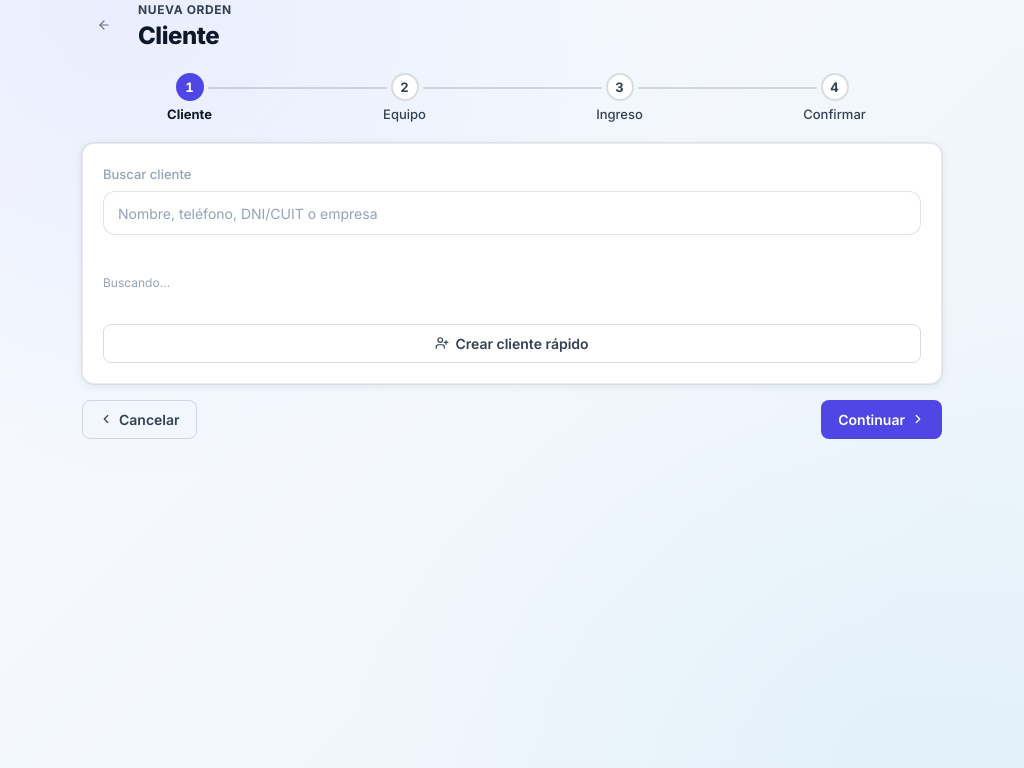
alta rápida · el error de mayorista se muestra UNA sola vez › la alerta de resumen queda libre para errores del servidor
Click the button "Crear cliente rápido" at (512, 343), box [103,324,921,363]
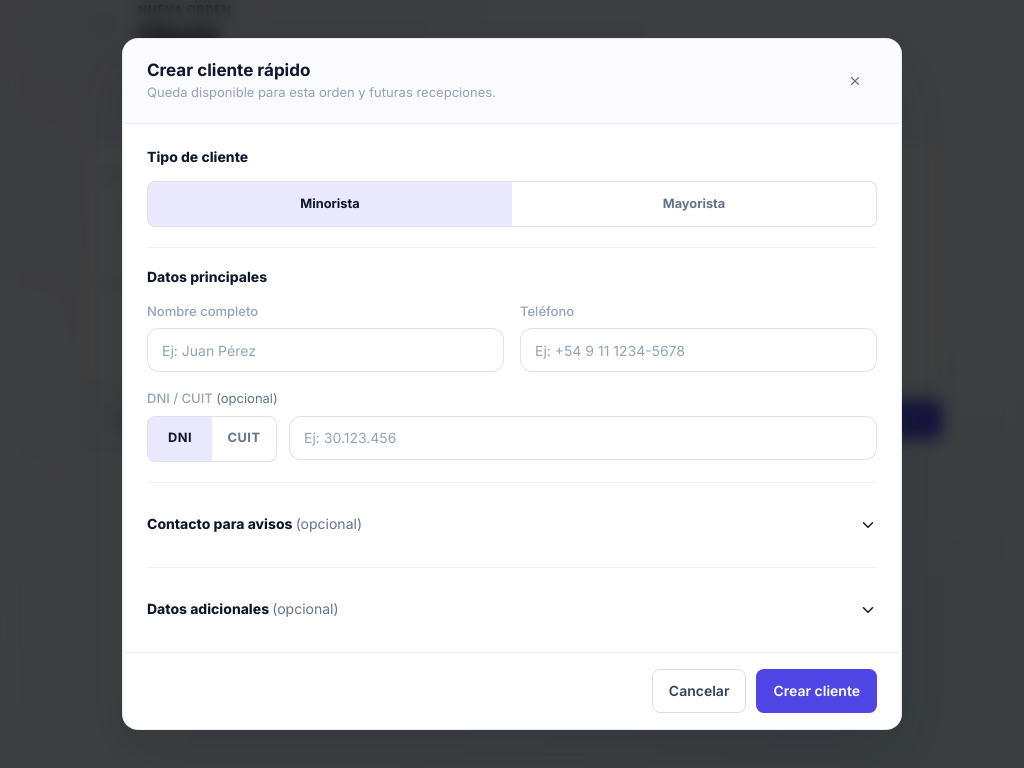
Click the button with test id "customer-type-mayorista" at (694, 204), box [512,182,876,226]
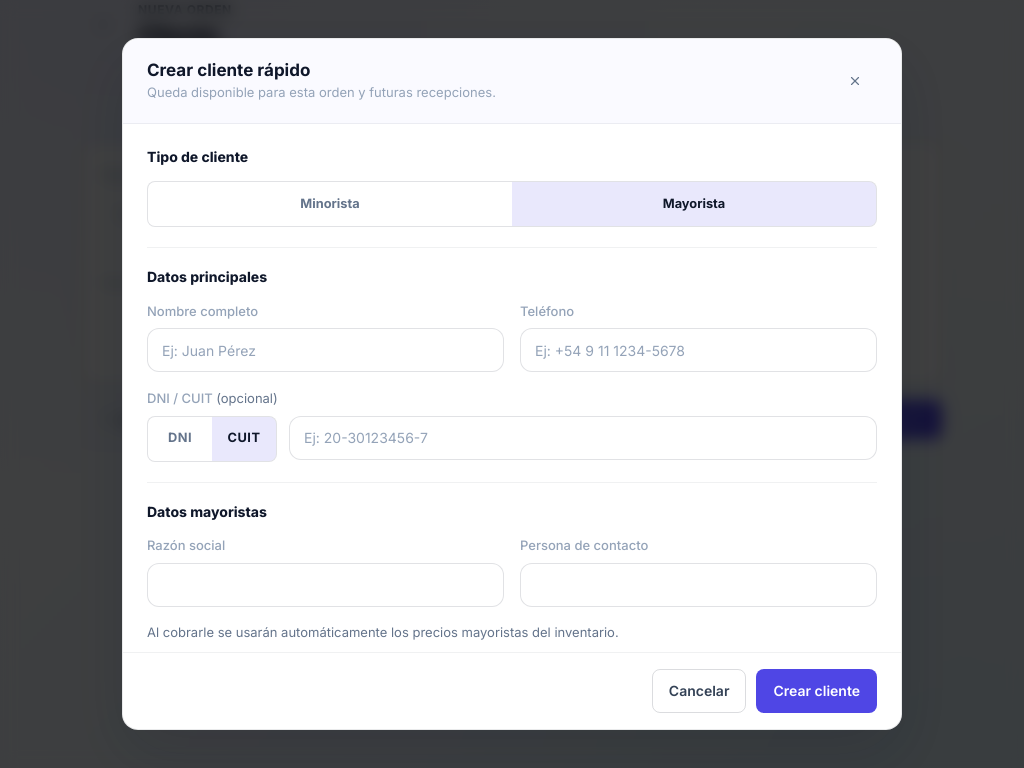
Type "QA Contacto" into the field labelled "Nombre completo" at (326, 350), box [147,328,504,372]
Type "3510000001" into the field labelled "Teléfono" at (698, 350), box [520,328,877,372]
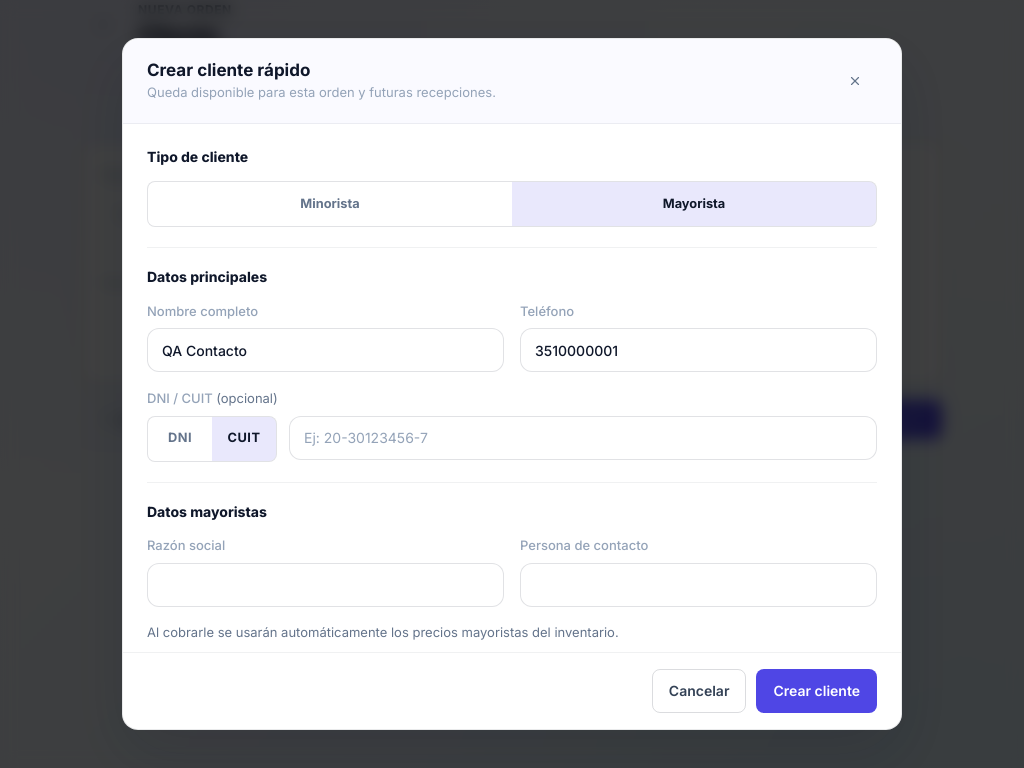
Click the button "Crear cliente" at (817, 691), box [756,669,877,713]
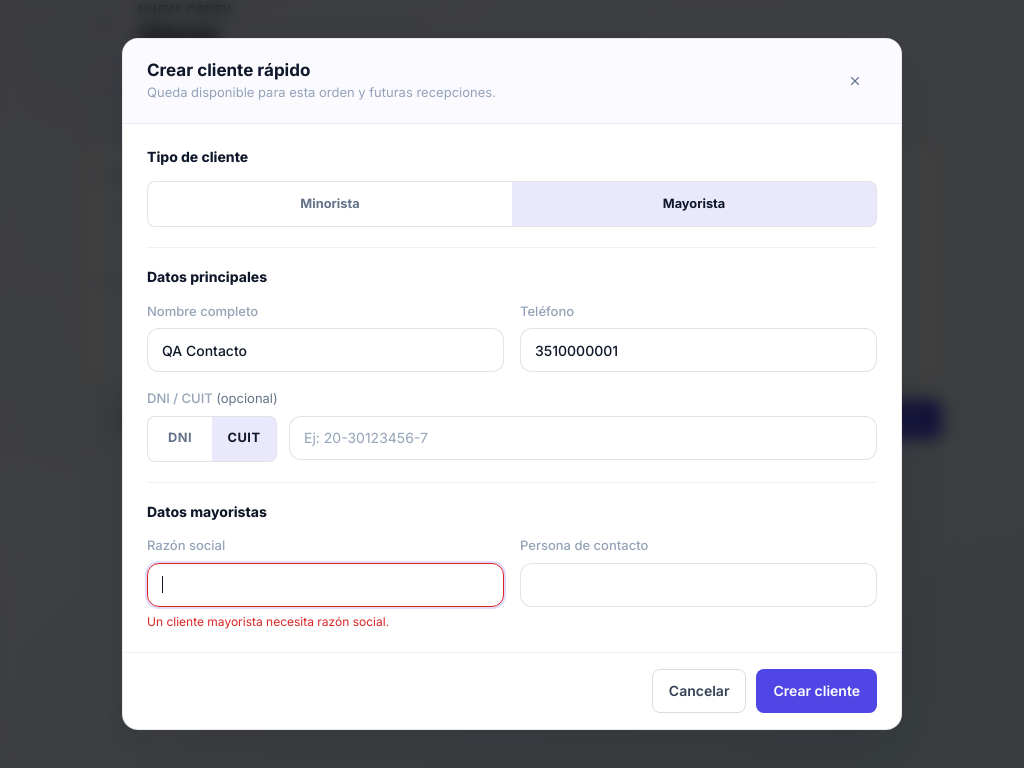
Type "Demo SRL" into the field labelled "Razón social" at (326, 585), box [147,563,504,607]
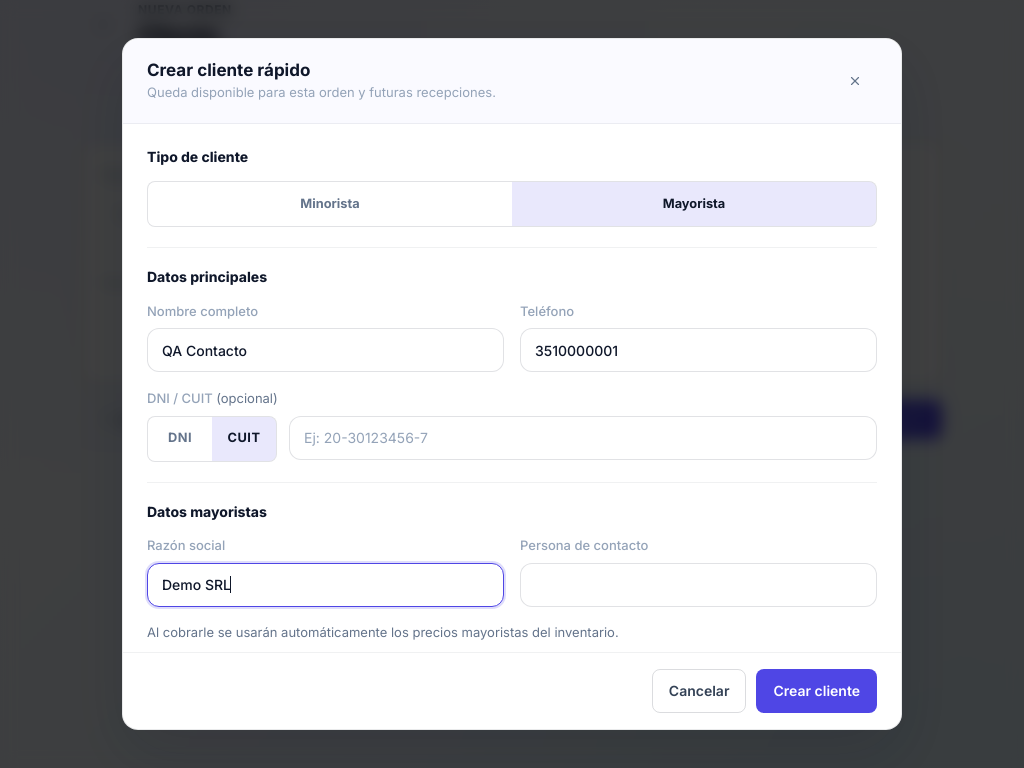
Click the button "Crear cliente" at (817, 691), box [756,669,877,713]
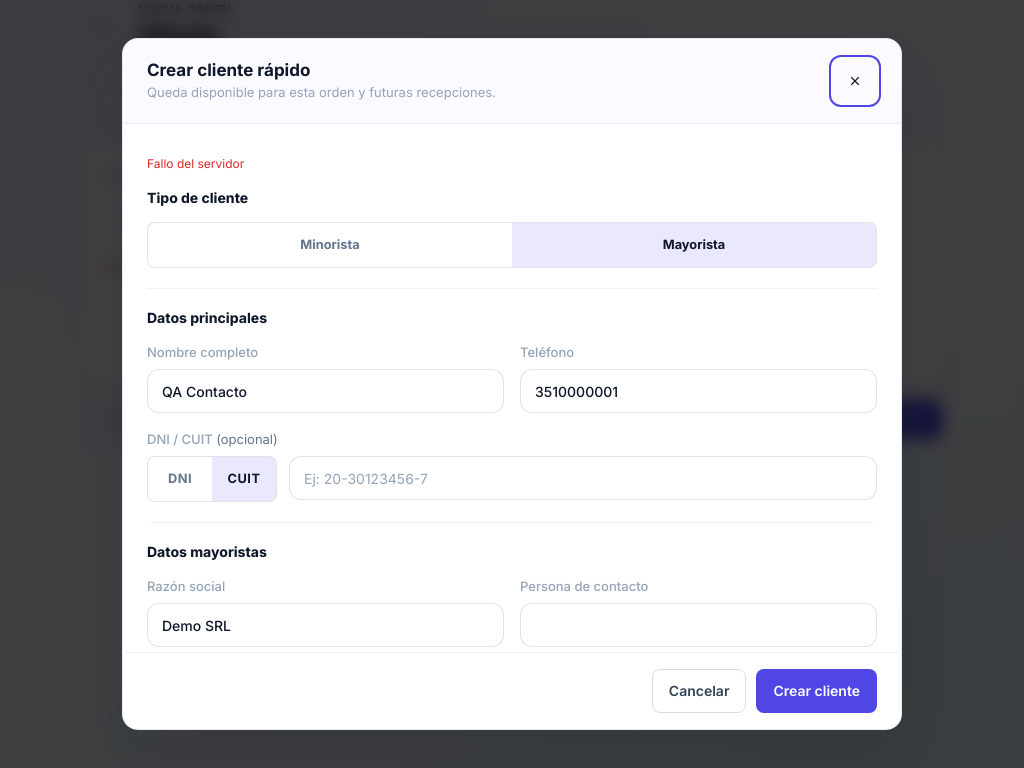
Expected: the text "Fallo del servidor" is shown, [147,156,244,171]
